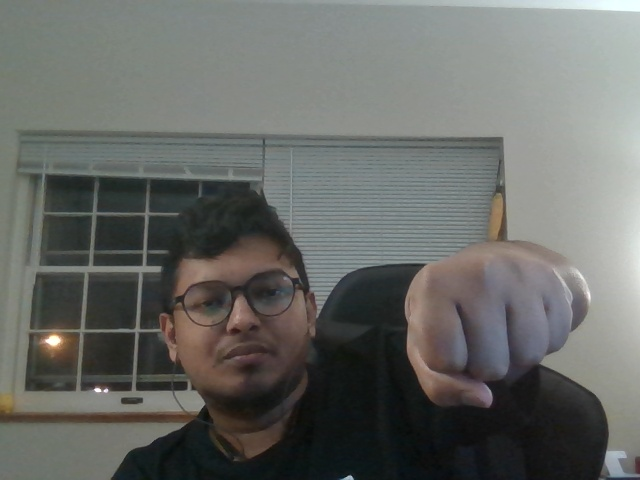yes: (378, 234, 600, 429)
